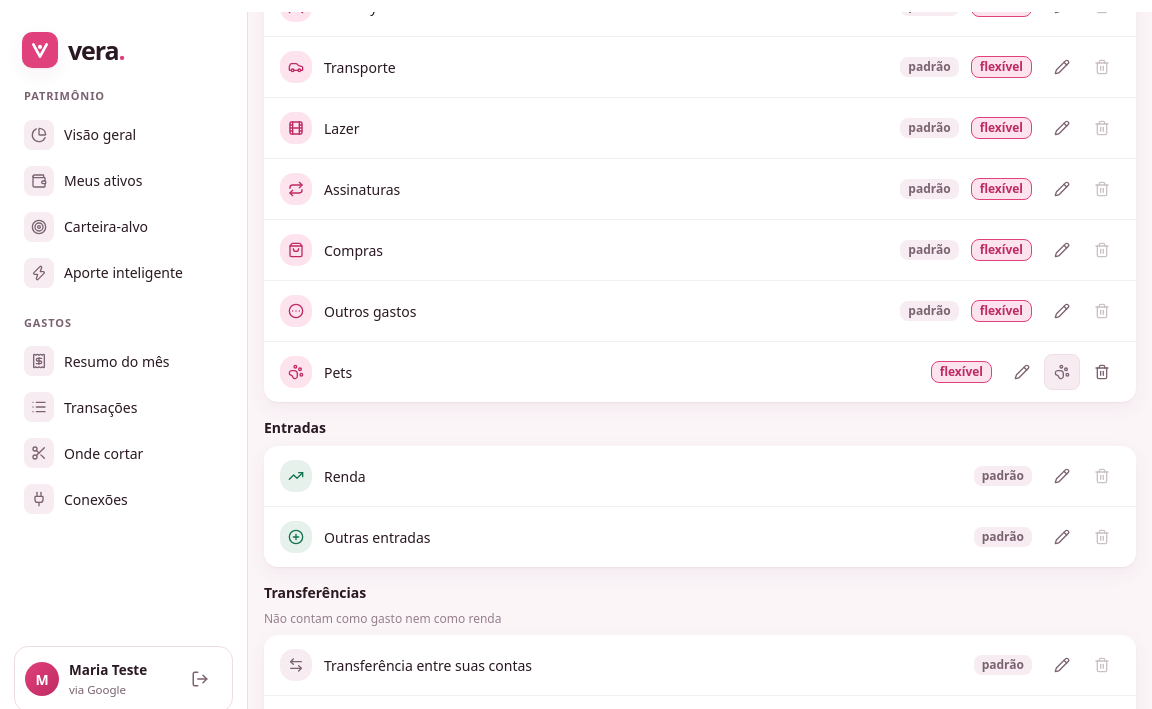
Test: RulesPage: categorias › troca o ícone de uma categoria própria e não oferece a troca na padrão
The image size is (1152, 709).
(page scrolled)
Click the button named "Trocar o ícone de Pets" at (1062, 372), box [1044, 354, 1080, 390]
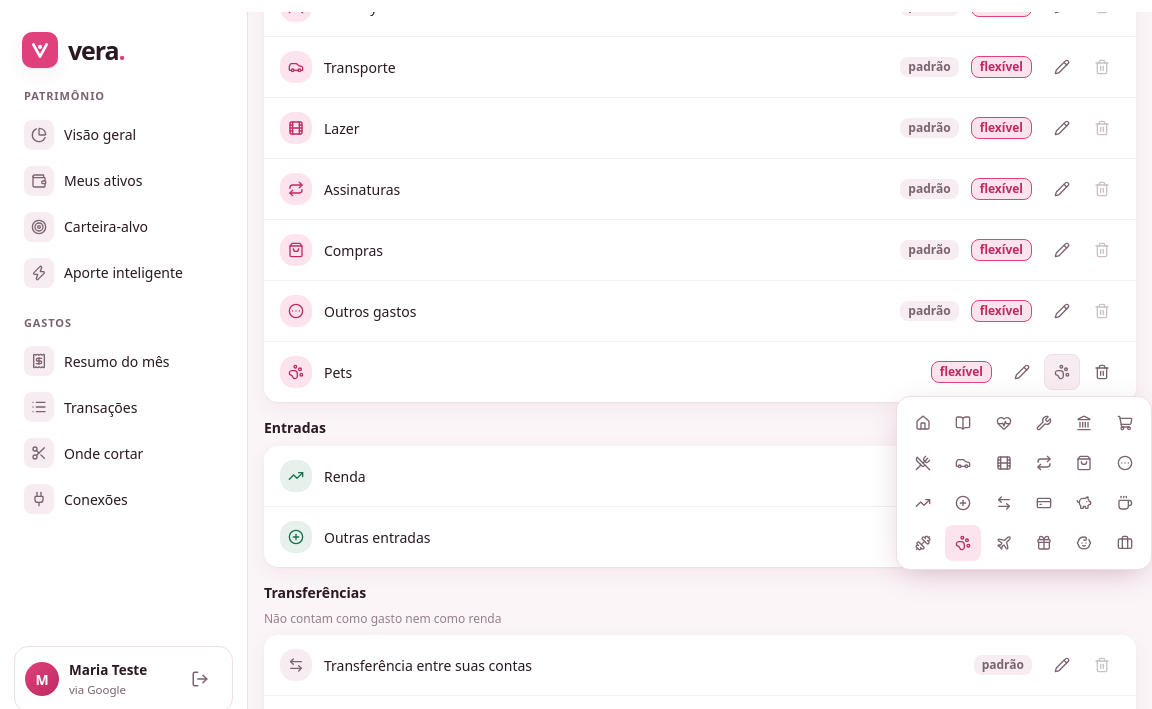
Click the menu item named "Avião" at (1004, 543), box [996, 535, 1012, 551]
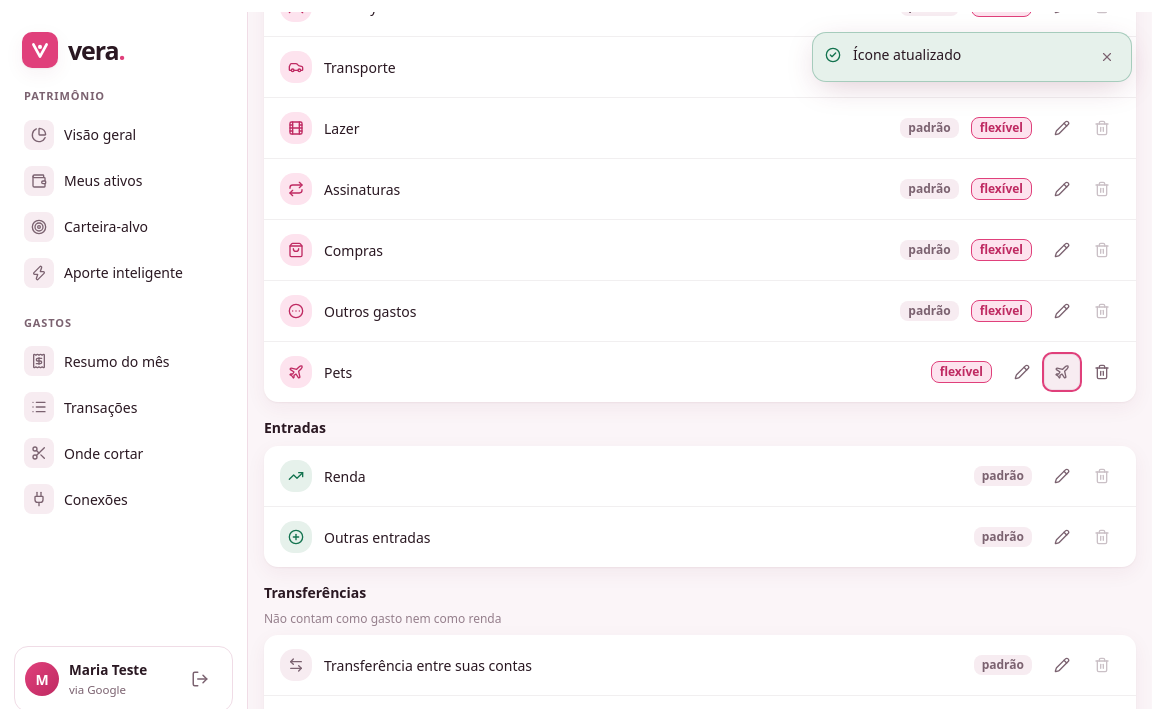
Expected: the text "Ícone atualizado" is shown, [853, 45, 961, 65]
